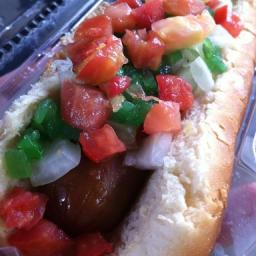hotdog: (0, 0, 254, 255)
